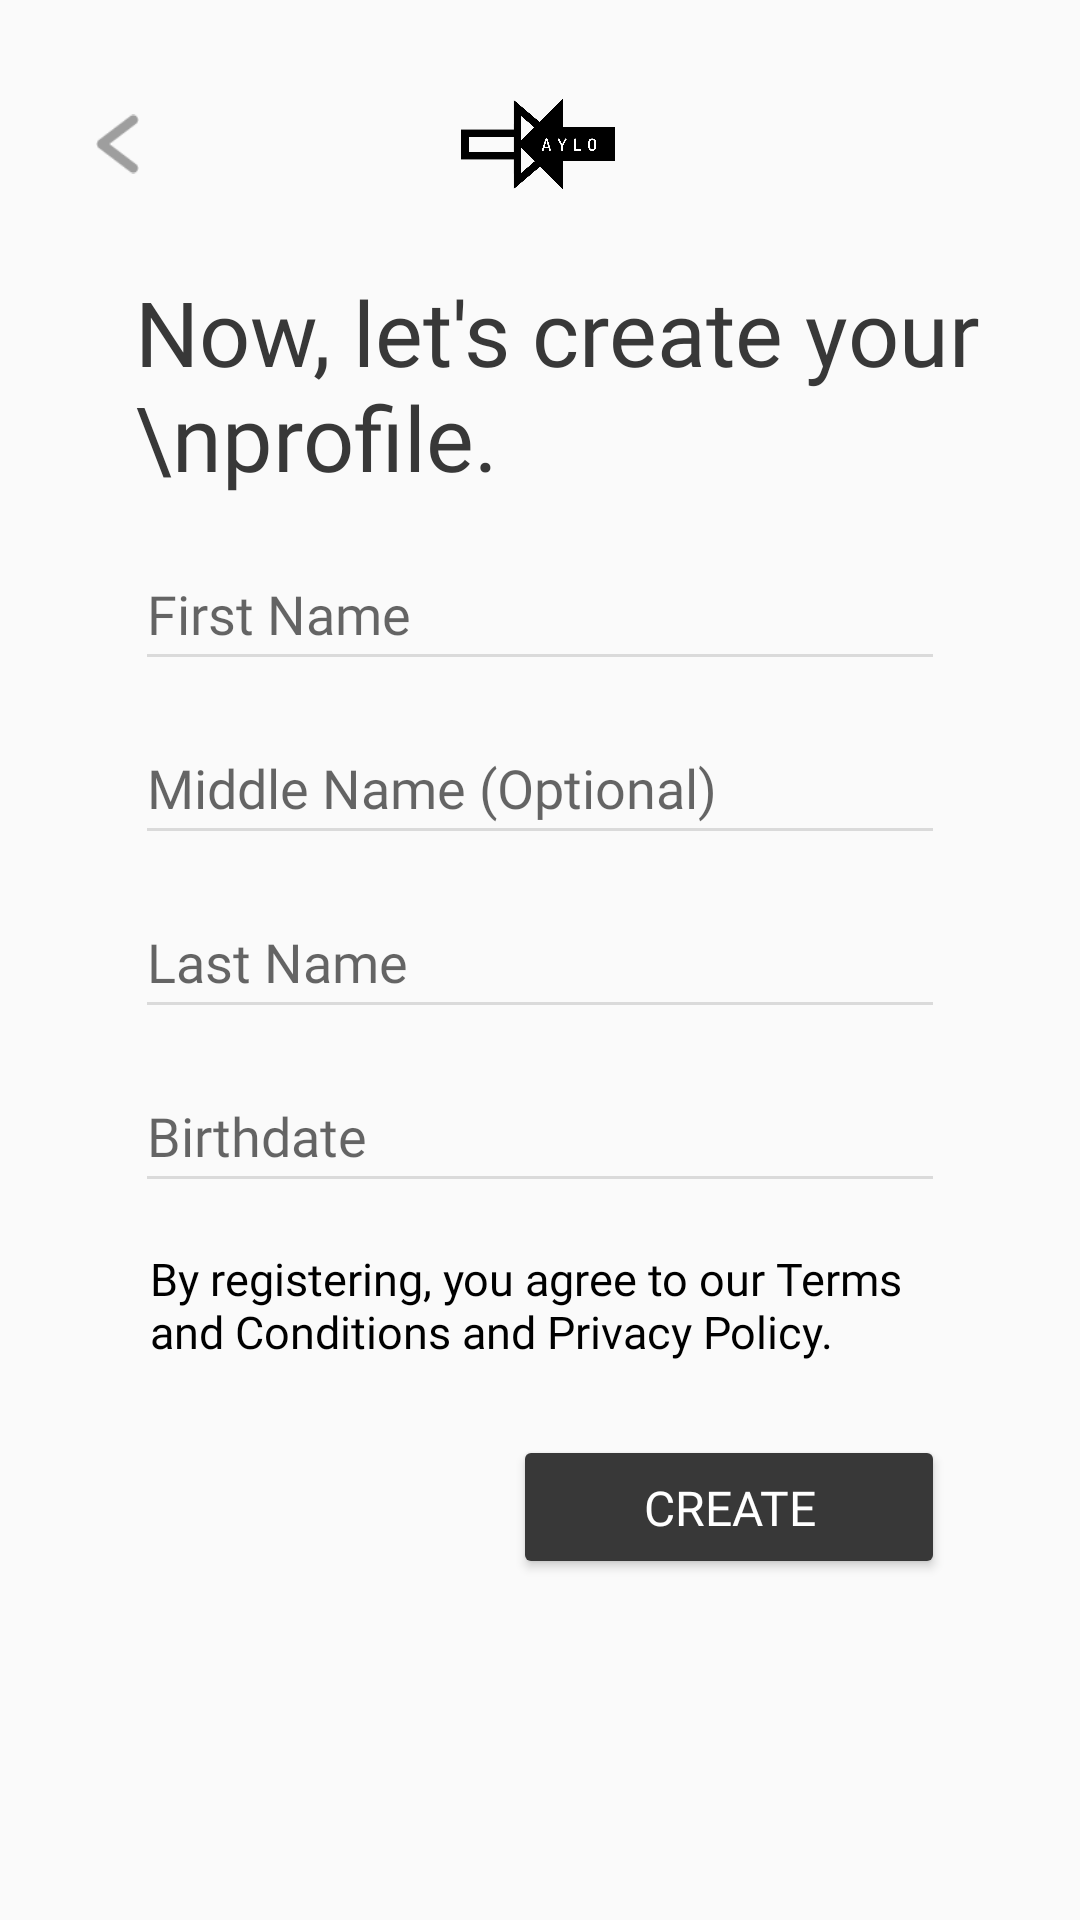

Locate icon controls on the screen. Image size 1080*1920, boxes as [x1,y1,x2,y2].
back arrow: [97,114,138,174]
